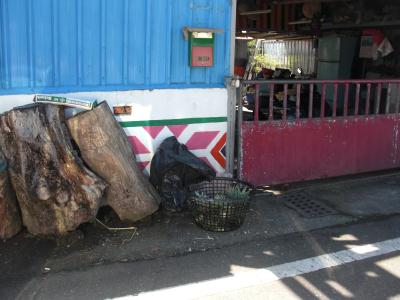box: (32, 93, 97, 111)
plastic_bag: (149, 136, 215, 201)
